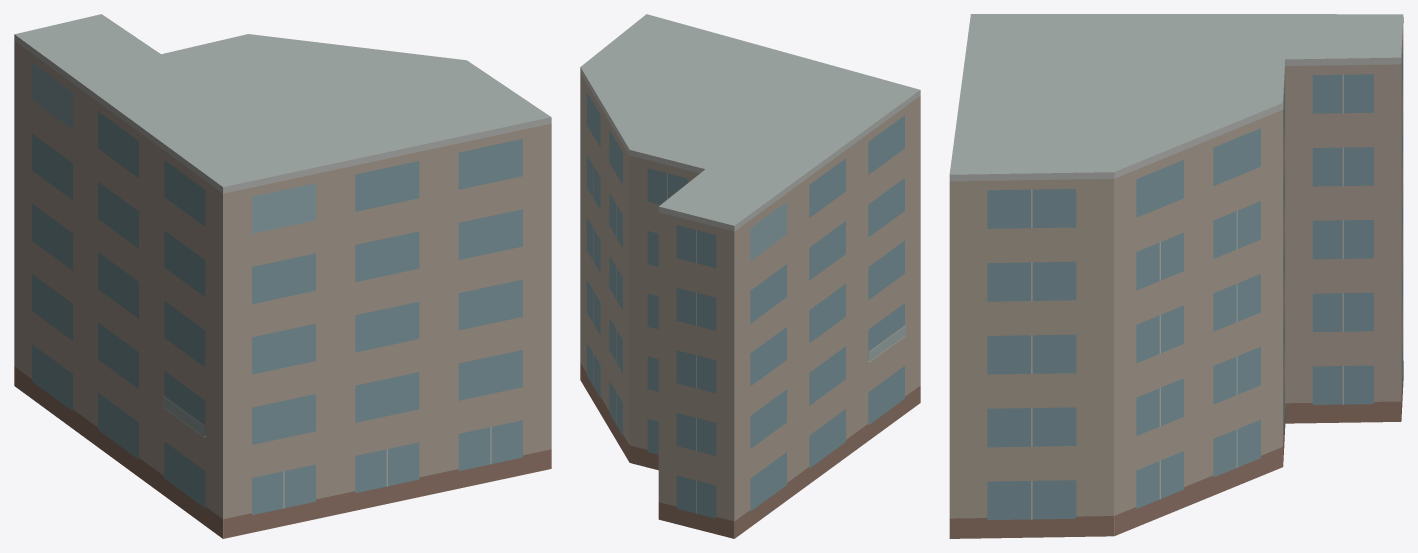
File: survey-upis-32899107.glb
The picture shows the model from 3 angles, left to right: view 1: azimuth 30°, elevation 25°; view 2: azimuth 150°, elevation 25°; view 3: azimuth 270°, elevation 25°; orthographic projection. The views are drawn at different scales.
Parts seen in each view (by area): view 1: survey-upis-32899107.tmp; view 2: survey-upis-32899107.tmp; view 3: survey-upis-32899107.tmp.
Part boxes in pixels (x1,y1,x2,y2): survey-upis-32899107.tmp: (14,14,551,538); survey-upis-32899107.tmp: (580,14,920,538); survey-upis-32899107.tmp: (949,14,1403,538).
Bounding box in the file's own units: 12.65 × 13.32 × 15.06.
